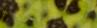Tomato Septoria leaf spot: (16, 0, 81, 28)
